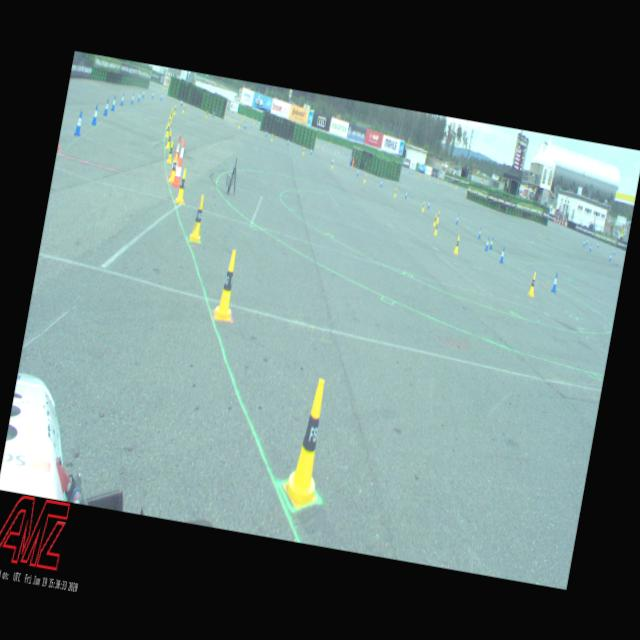blue_cone: (73, 110, 84, 136), (91, 104, 99, 126), (550, 272, 558, 292), (103, 98, 110, 116), (498, 246, 505, 263), (110, 95, 117, 111), (484, 236, 490, 251), (488, 237, 494, 250), (476, 227, 482, 239), (120, 92, 124, 105), (426, 199, 431, 209), (130, 93, 134, 104), (455, 213, 459, 224), (378, 178, 382, 188), (137, 92, 141, 102), (403, 190, 408, 198), (264, 129, 268, 137), (160, 92, 163, 101), (151, 90, 154, 98), (212, 109, 215, 117), (356, 168, 359, 176), (286, 138, 289, 146), (142, 89, 144, 98), (309, 148, 312, 154), (243, 122, 246, 128), (180, 98, 182, 106), (332, 156, 334, 164)
large_orange_cone: (171, 138, 188, 186), (168, 134, 182, 179)
yellow_cone: (278, 376, 338, 512), (213, 248, 243, 321), (188, 194, 208, 242), (174, 166, 190, 204), (168, 154, 178, 182), (527, 272, 538, 296), (166, 140, 175, 164), (453, 234, 460, 254), (165, 130, 172, 149), (433, 220, 439, 235), (164, 123, 170, 137), (166, 117, 172, 128), (432, 213, 437, 226), (168, 110, 173, 122), (421, 200, 425, 212), (436, 210, 440, 222), (362, 173, 367, 182), (170, 107, 174, 118), (393, 187, 397, 197), (182, 104, 186, 113), (172, 105, 176, 114), (270, 134, 274, 142), (205, 109, 208, 118), (237, 120, 240, 128), (331, 160, 334, 168), (302, 146, 304, 155)
